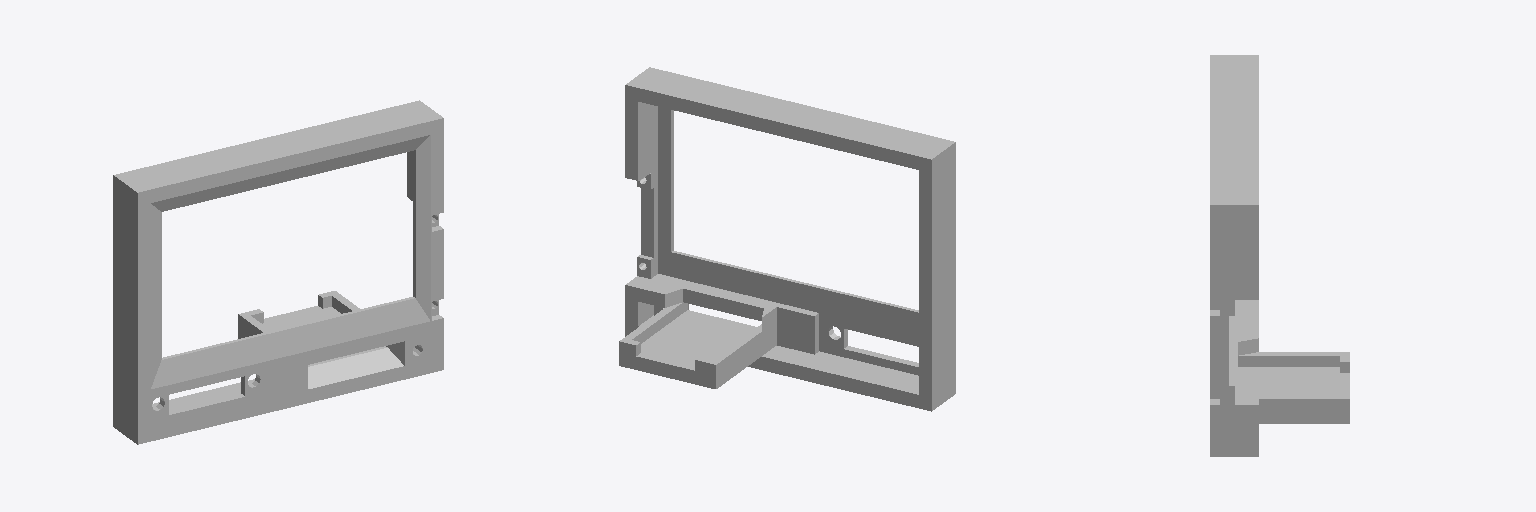
Rendered from TV_FRONT.obj.
The picture shows the model from 3 angles: view 1: azimuth 30°, elevation 25°; view 2: azimuth 150°, elevation 25°; view 3: azimuth 270°, elevation 25°; orthographic projection.
Parts seen in each view (by area): view 1: TV:TV_Front TV:TV_FRONT:polySurface9; view 2: TV:TV_Front TV:TV_FRONT:polySurface9; view 3: TV:TV_Front TV:TV_FRONT:polySurface9.
Boxes of the visible parts, <box> form: TV:TV_Front TV:TV_FRONT:polySurface9: <box>113,100,443,444</box>; TV:TV_Front TV:TV_FRONT:polySurface9: <box>619,67,955,411</box>; TV:TV_Front TV:TV_FRONT:polySurface9: <box>1210,55,1349,456</box>.
Bounding box in the file's own units: 117 × 92 × 46.